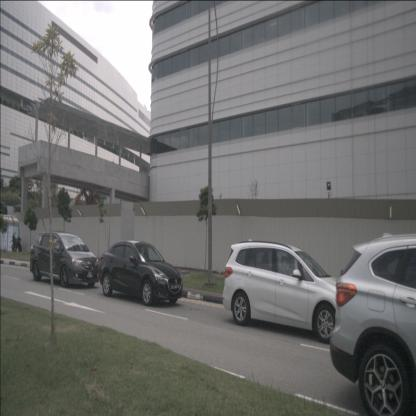vehicle-car: (328, 233, 416, 416), (222, 240, 351, 344), (99, 240, 183, 306), (30, 230, 99, 286)
vehicle-motorcycle: (10, 228, 22, 252)
